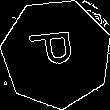P_E: (29, 32, 83, 75)
